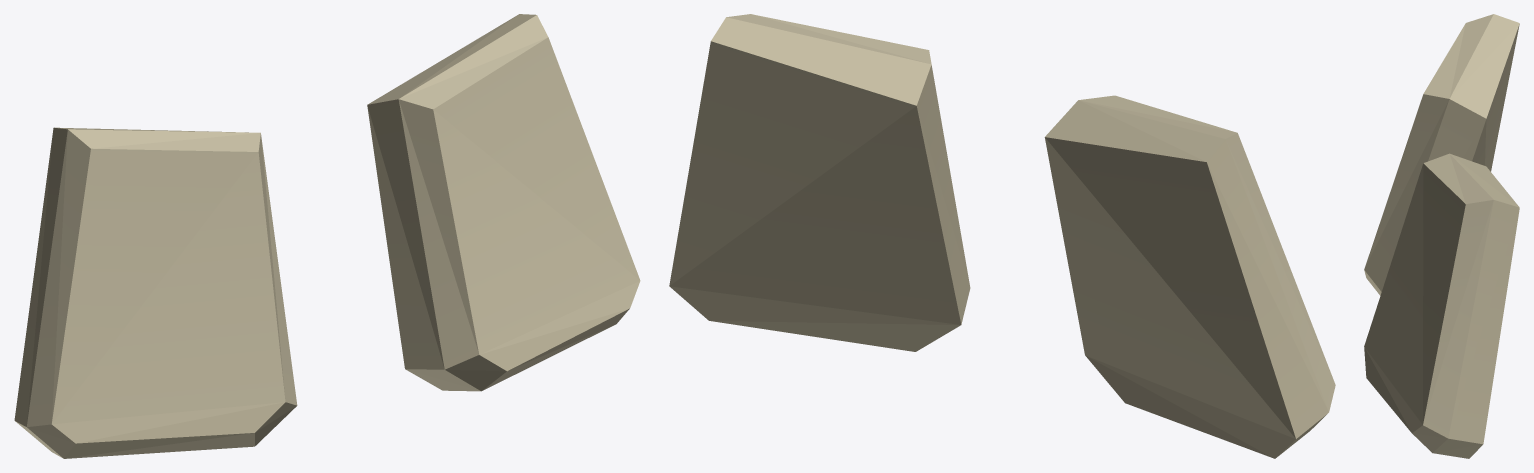
Rendered from miscBigTeeth.glb.
3 renders of one model, left to right at view 1: azimuth 30°, elevation 25°; view 2: azimuth 150°, elevation 25°; view 3: azimuth 270°, elevation 25°, orthographic. The views are drawn at different scales.
Parts seen in each view (by area): view 1: miscbigTeeth; view 2: miscbigTeeth; view 3: miscbigTeeth.
Part boxes in pixels (x1,y1,x2,y2): miscbigTeeth: (14,14,640,458); miscbigTeeth: (669,14,1335,458); miscbigTeeth: (1364,14,1519,458).
Size of the model in its own units: 0.0286 by 0.014 by 0.00782.
